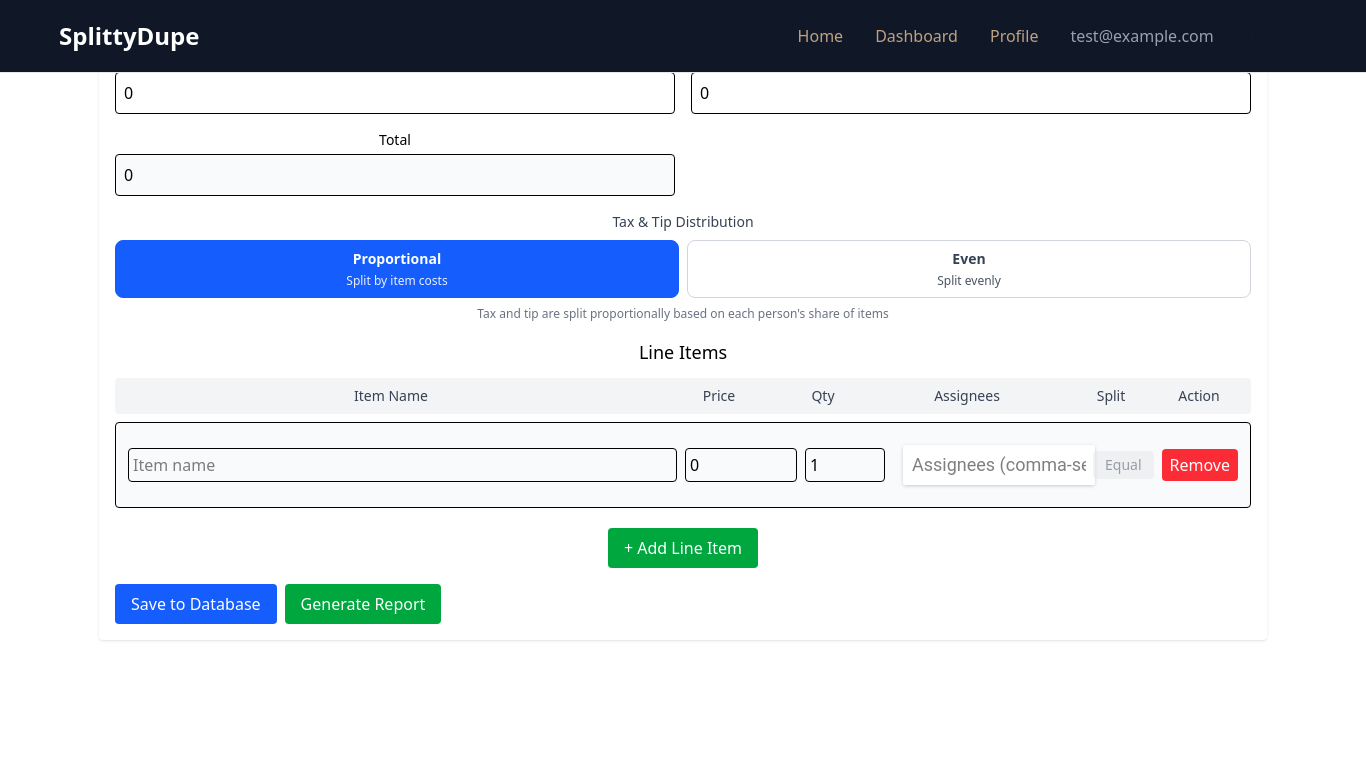
it: Home Page Integration Tests › should allow adding and removing line items
Check: the heading "Line Items" is shown, box 639,340 -> 727,364
Note: Add a line item
Click the button "+ Add Line Item" at (683, 548), box 608,528 -> 758,568
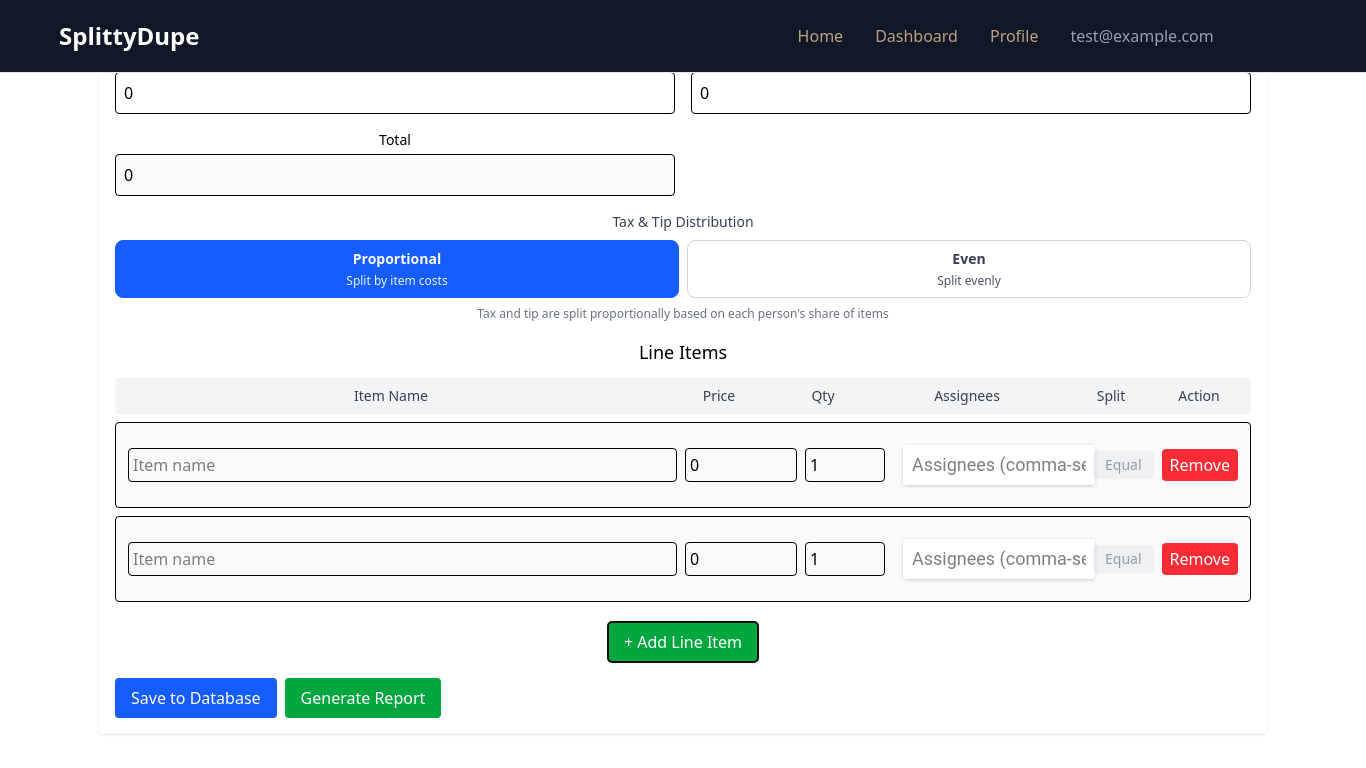
Check: the number of buttons "Remove" is 2
Note: Remove a line item
Click the 1st button "Remove" at (1200, 465), box 1162,449 -> 1238,481
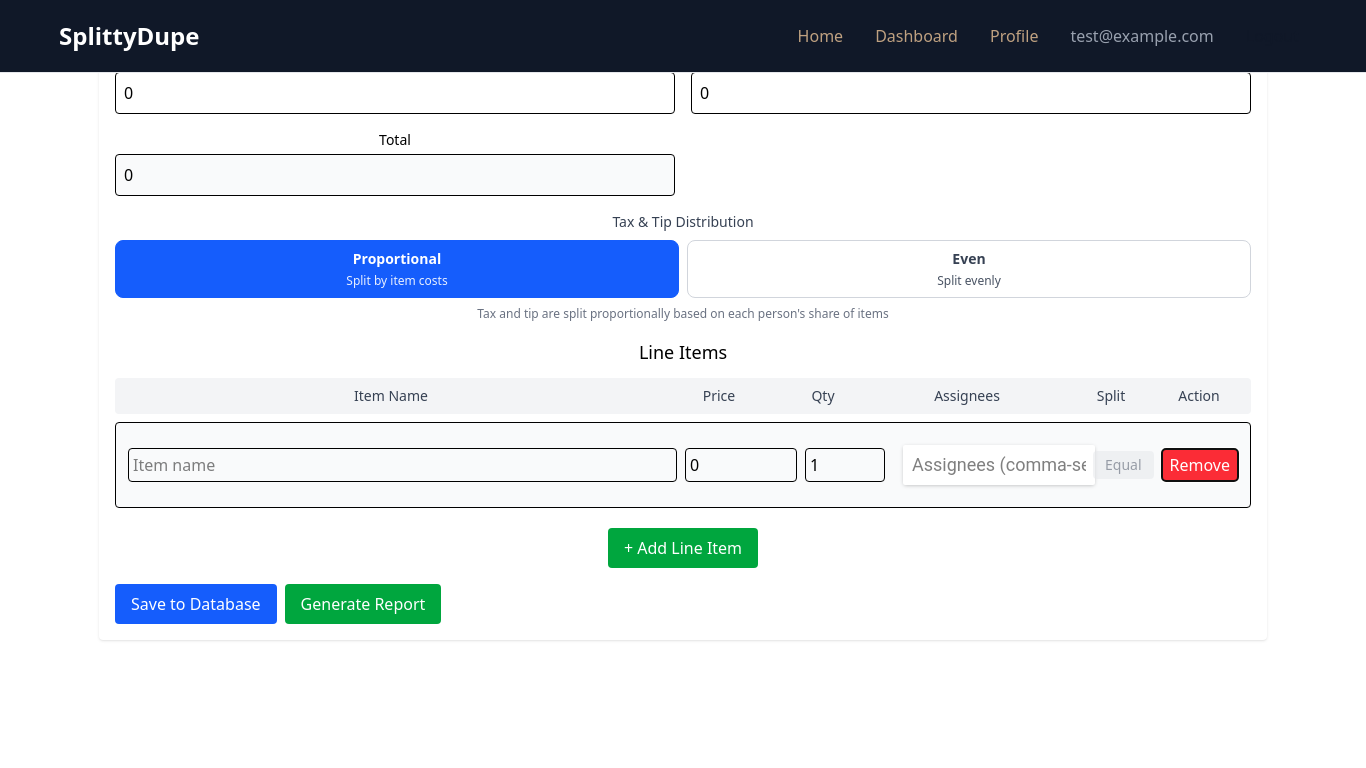
Check: the number of buttons "Remove" is 1, box 1162,449 -> 1238,481
